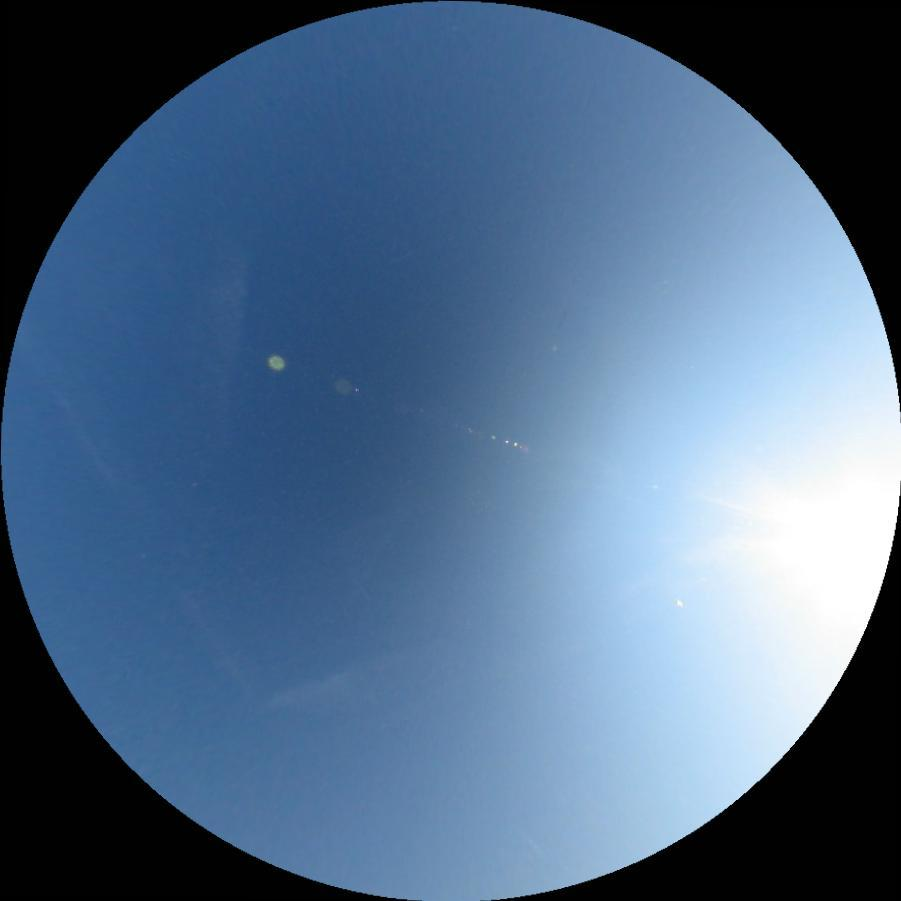contrail young: (376, 249, 418, 267), (517, 828, 541, 856), (351, 574, 372, 604)
sun: (759, 419, 901, 650)
